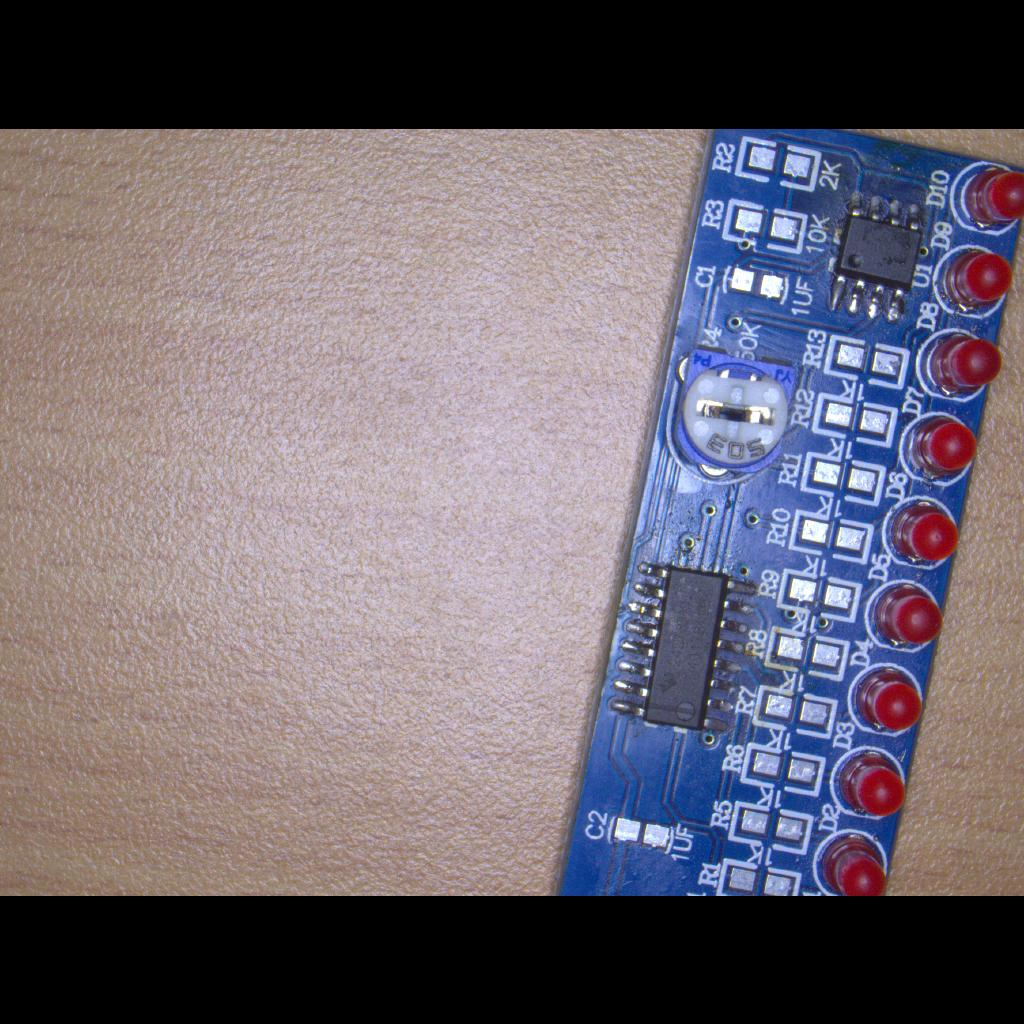NG: (804, 380, 904, 454), (714, 188, 812, 260), (731, 128, 825, 196), (784, 504, 878, 566), (798, 447, 890, 509), (762, 622, 854, 684), (736, 740, 828, 802), (724, 796, 818, 856), (822, 331, 912, 393), (748, 682, 840, 740), (776, 564, 862, 626), (714, 259, 794, 305), (601, 814, 683, 856)
OK: (600, 552, 762, 744), (817, 176, 931, 326)
